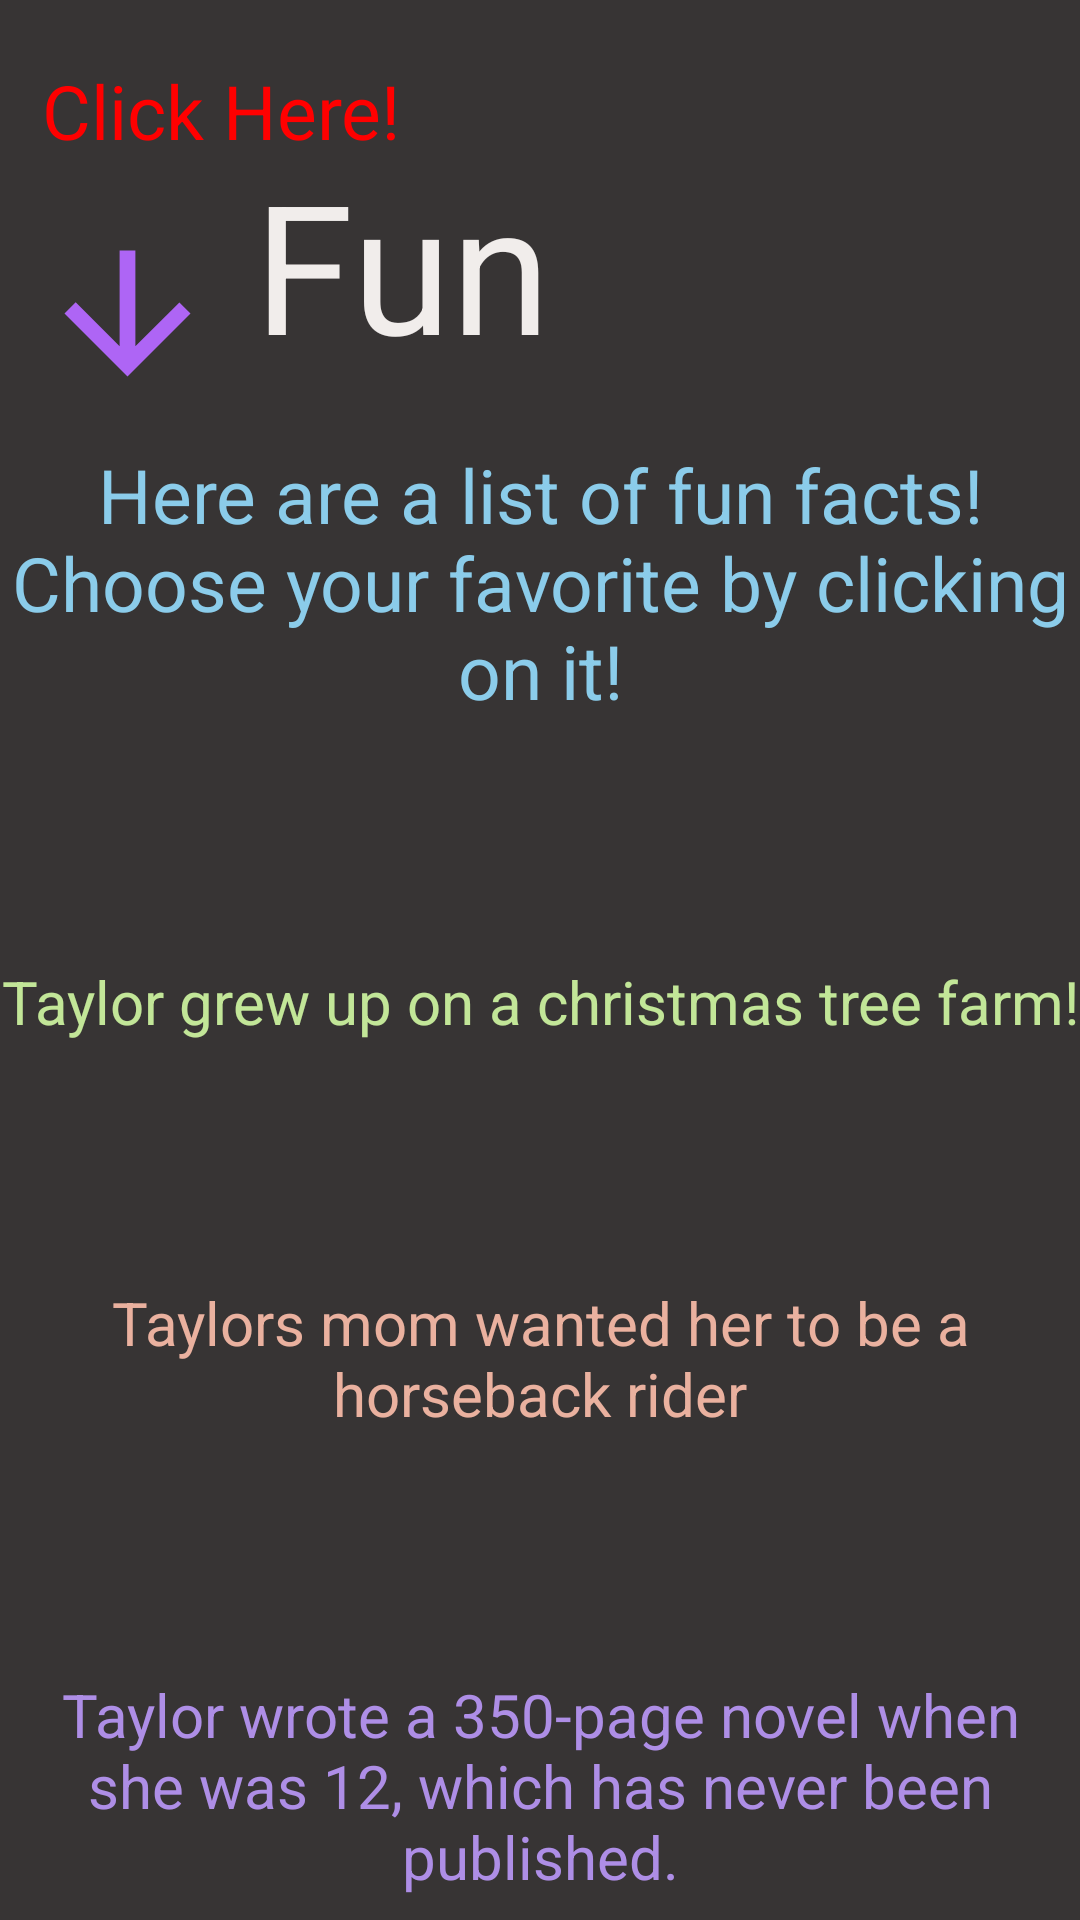

Locate icon controls on the screen. Image size 1080x1920, boxes as (x1, y1, x2, y2).
arrow downward: (64, 250, 191, 377)
